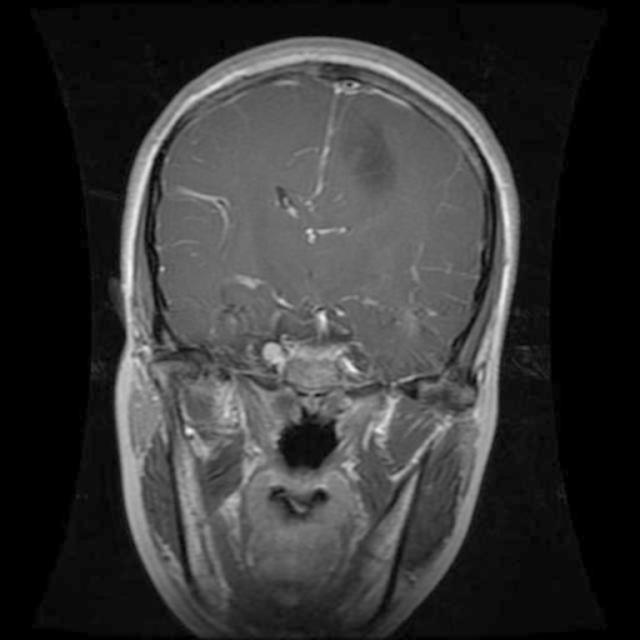pituitary tumor: (347, 119, 388, 190)
